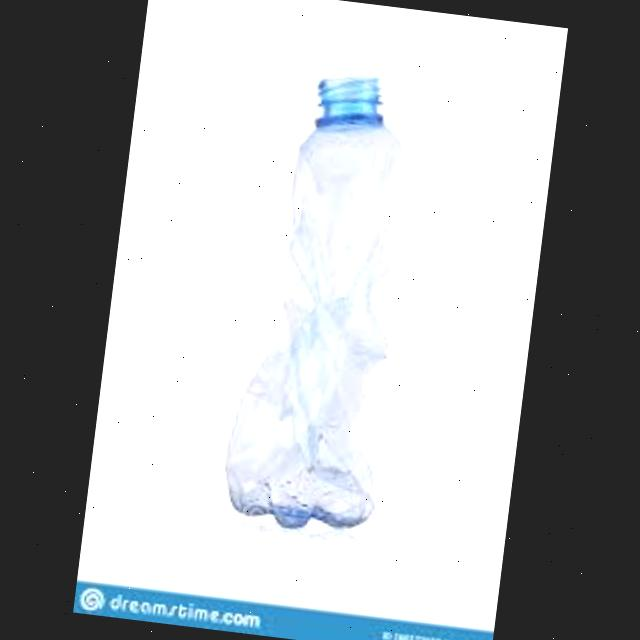trash: (202, 45, 452, 542)
